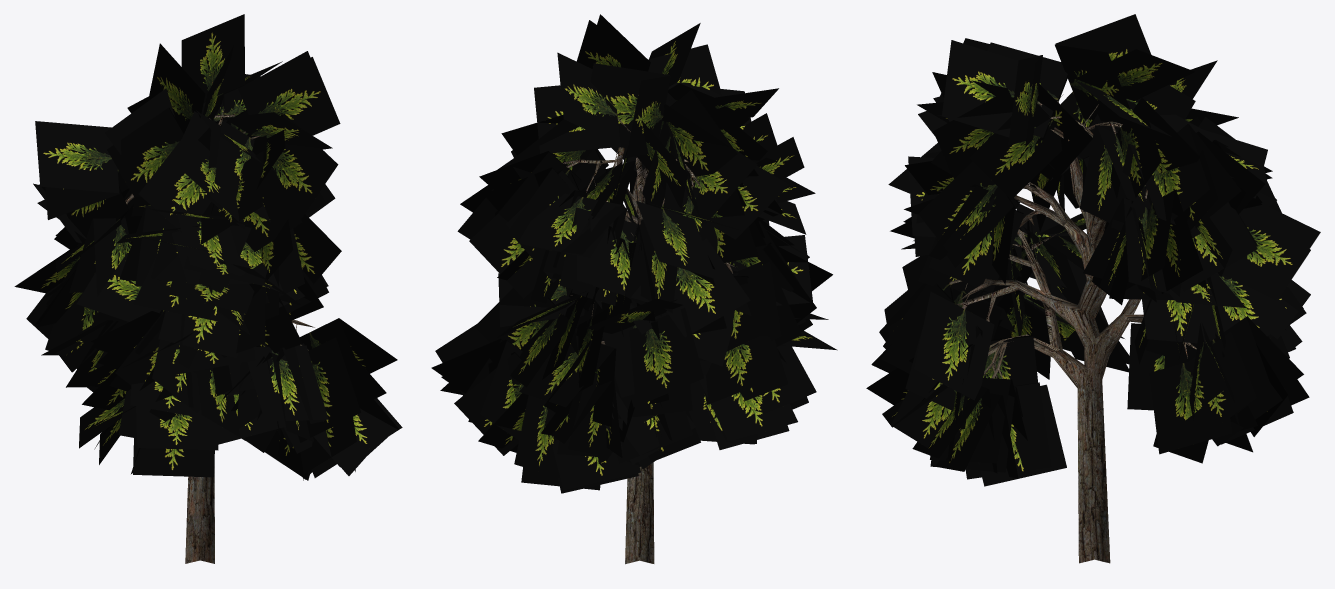
The model's file is tree1.glb.
The picture shows the model from 3 angles, left to right: view 1: azimuth 30°, elevation 25°; view 2: azimuth 150°, elevation 25°; view 3: azimuth 270°, elevation 25°; orthographic projection. The views are drawn at different scales.
Visible parts, largest first — view 1: _MeshInstance3D_364; view 2: _MeshInstance3D_364; view 3: _MeshInstance3D_364.
Boxes of the visible parts, x1,y1,x2,y2 form: _MeshInstance3D_364: (14,14,402,563); _MeshInstance3D_364: (431,14,837,564); _MeshInstance3D_364: (866,14,1320,563).
Bounding box in the file's own units: 3.82 × 6.39 × 4.78.
2 materials, 2 textured.
